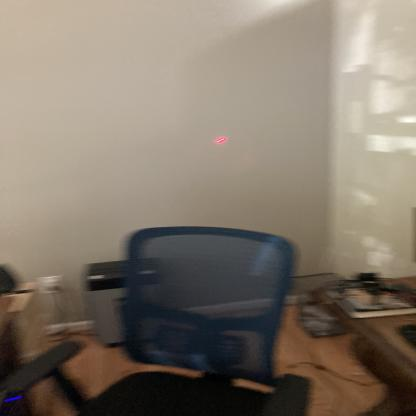target: (211, 131, 231, 147)
